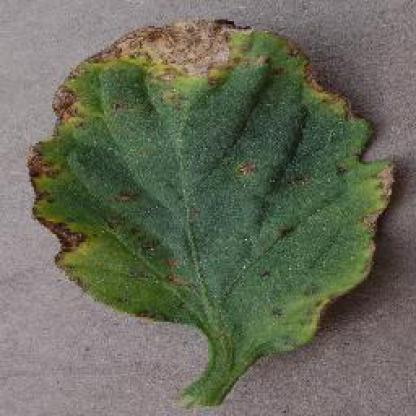bad leaf: (64, 11, 349, 272)
